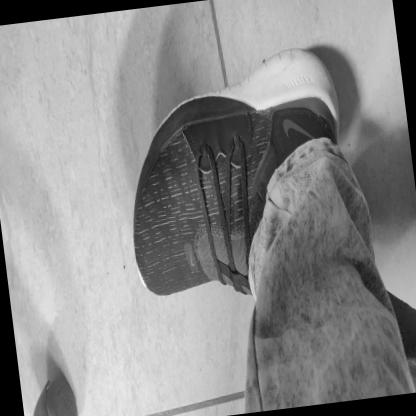ankle: (268, 175, 273, 183)
heel: (335, 122, 338, 129)
left_foot: (113, 47, 359, 299)
pinky: (144, 189, 148, 195)
toe: (158, 288, 162, 293)
